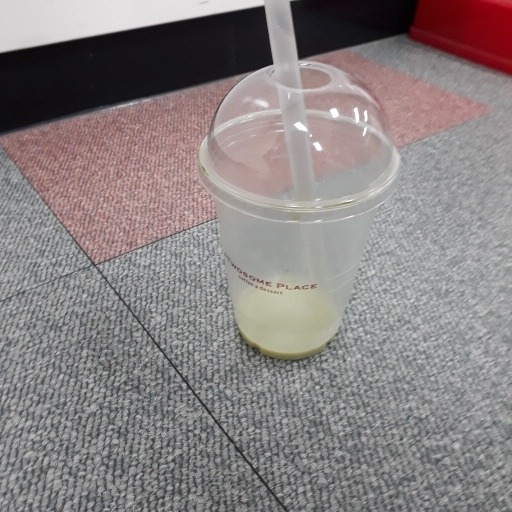Plastic_2: (196, 1, 404, 364)
